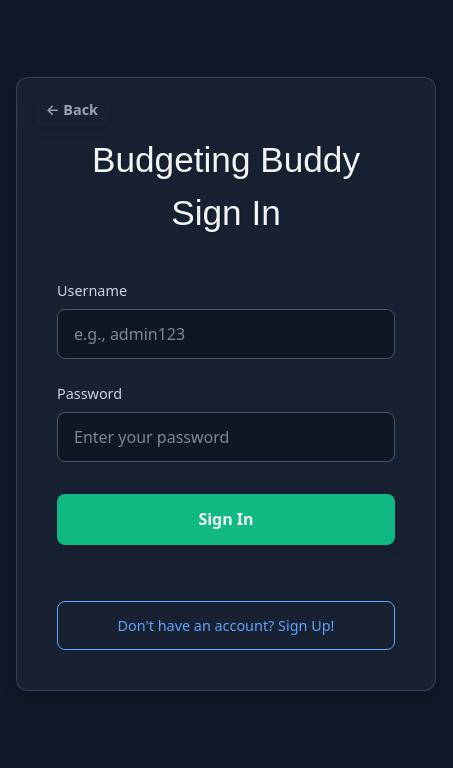
SignIn Component › clears the error message when user starts typing again
Step 1. Type "wrong" into the field labelled "Username" → (226, 334), box [57, 309, 395, 359]
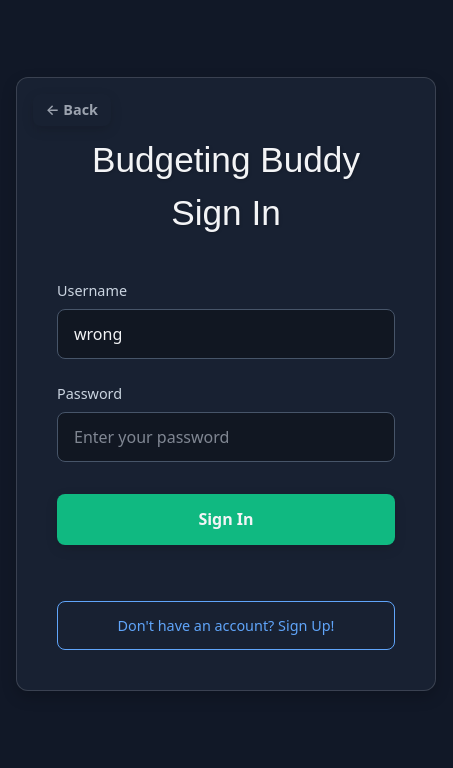
Step 2. Click the button "Sign In" → (226, 519), box [57, 494, 395, 545]
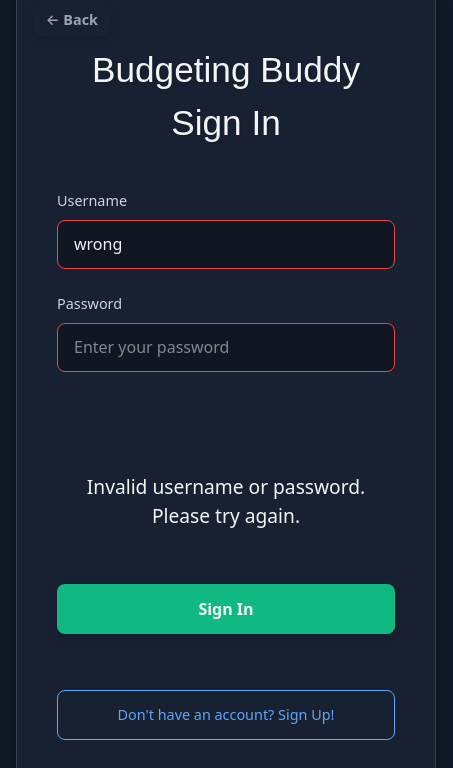
Expected: the message "Invalid username or password. Please try again." is shown, [87, 473, 365, 529]
